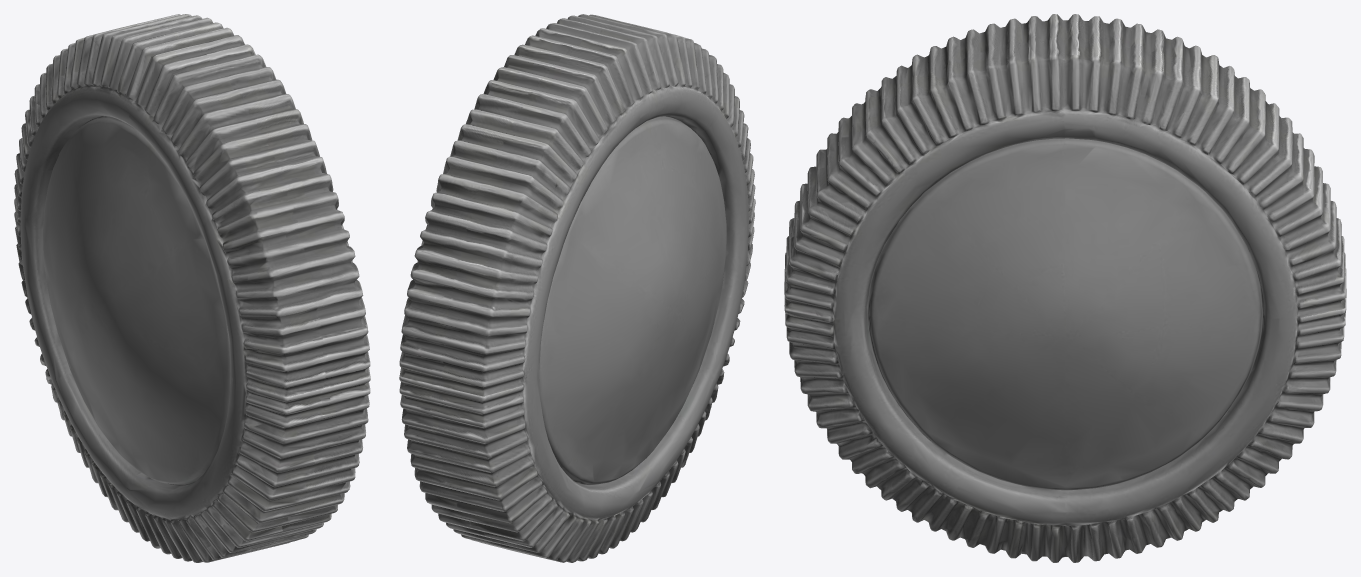
File: btn-add.glb
The picture shows the model from 3 angles, left to right: view 1: azimuth 30°, elevation 25°; view 2: azimuth 150°, elevation 25°; view 3: azimuth 270°, elevation 25°; orthographic projection. The views are drawn at different scales.
Visible parts, largest first — view 1: tripo_node_81c78449-ae9a-4416-9dd4-9d45a4cff848; view 2: tripo_node_81c78449-ae9a-4416-9dd4-9d45a4cff848; view 3: tripo_node_81c78449-ae9a-4416-9dd4-9d45a4cff848.
Boxes of the visible parts, x1,y1,x2,y2 form: tripo_node_81c78449-ae9a-4416-9dd4-9d45a4cff848: (14,14,370,562); tripo_node_81c78449-ae9a-4416-9dd4-9d45a4cff848: (399,14,755,562); tripo_node_81c78449-ae9a-4416-9dd4-9d45a4cff848: (784,14,1346,562).
Size of the model in its own units: 0.4065 by 0.9996 by 1.
Materials: 1 (1 with a texture image).
